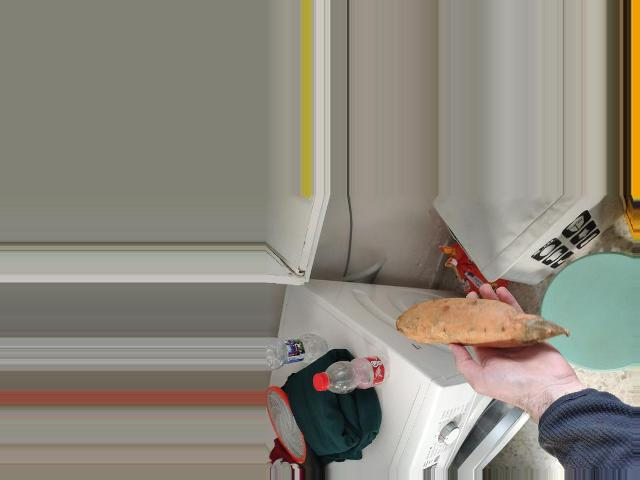sweet_potato: (381, 299, 533, 356)
